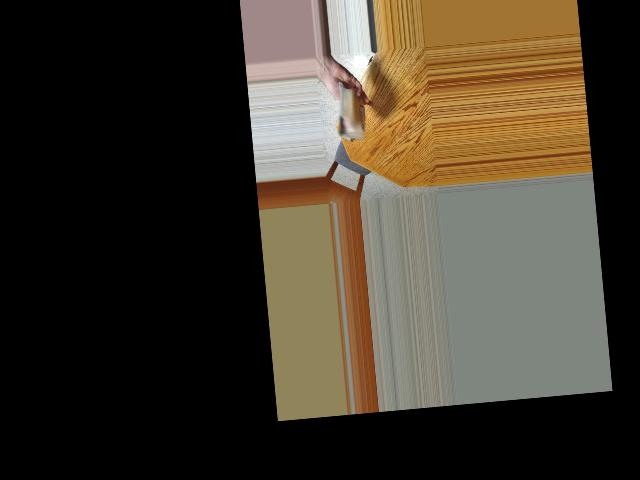cheese: (330, 85, 373, 140)
